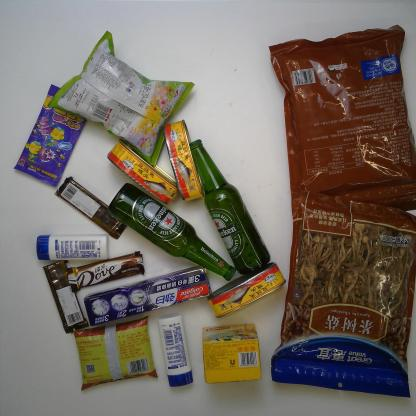Alcohol: (108, 182, 238, 283), (188, 138, 272, 275)
Candy: (12, 84, 88, 188)
Canned Food: (107, 138, 181, 206), (206, 260, 287, 320), (162, 120, 206, 202)
Chocolate: (53, 174, 128, 241), (43, 260, 89, 334), (68, 250, 145, 293)
Dried Food: (270, 190, 416, 398), (269, 22, 416, 216)
Instant Drink: (202, 323, 262, 384)
Personal Hygiene: (83, 265, 213, 327), (158, 314, 194, 388), (36, 233, 108, 261)
Puffed Food: (47, 29, 195, 167)
Seasoner: (73, 314, 158, 393)
